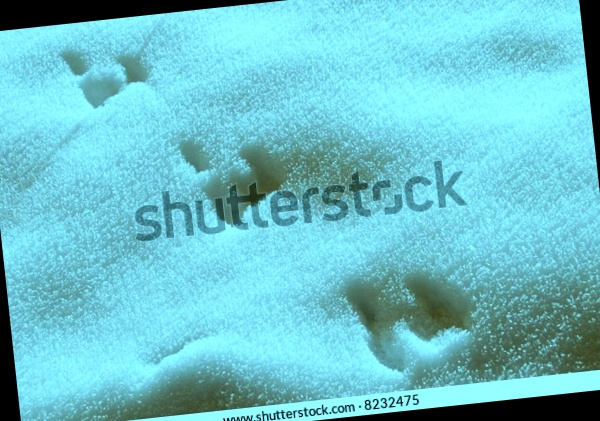lapin: (319, 266, 487, 386), (180, 115, 306, 228), (65, 7, 176, 93)
